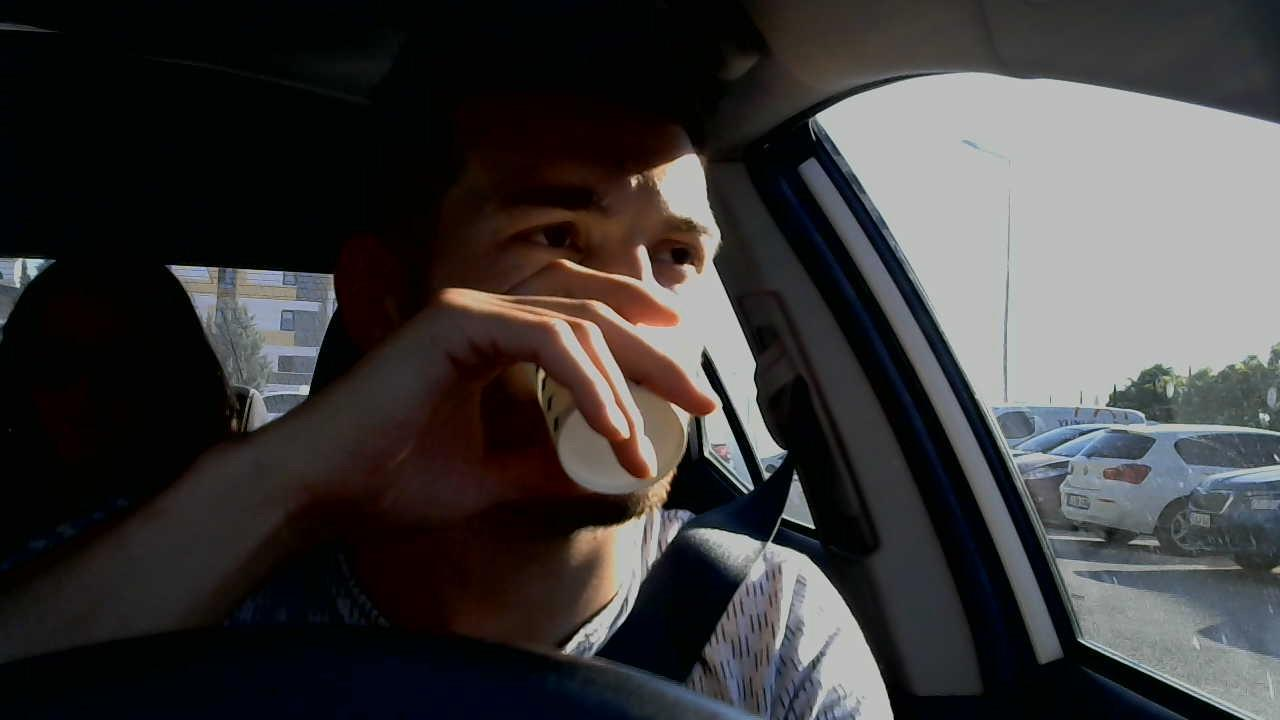Drinking: (336, 90, 722, 519)
